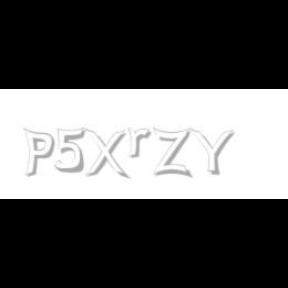5: (54, 128, 86, 174)
P: (23, 128, 55, 178)
X: (83, 128, 127, 180)
Y: (189, 128, 235, 176)
Z: (154, 128, 190, 178)
r: (128, 128, 154, 158)
